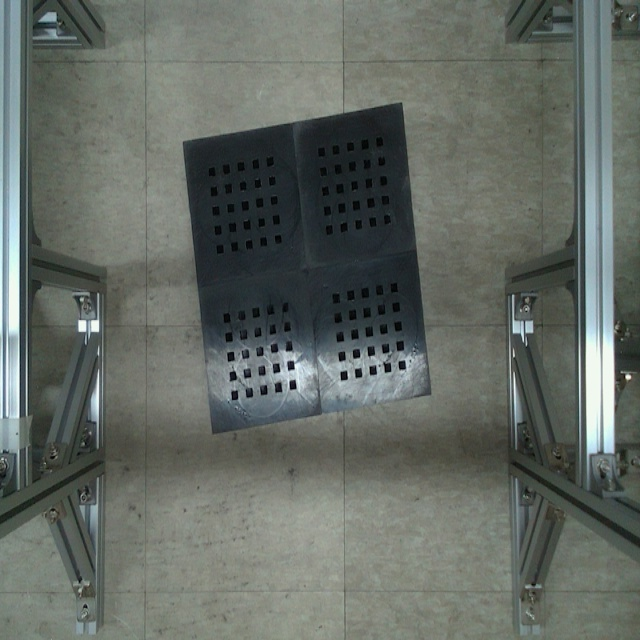pallet: (172, 96, 439, 442)
